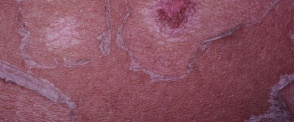SJS-TEN: (114, 0, 256, 87), (0, 0, 110, 110), (238, 62, 294, 122)
